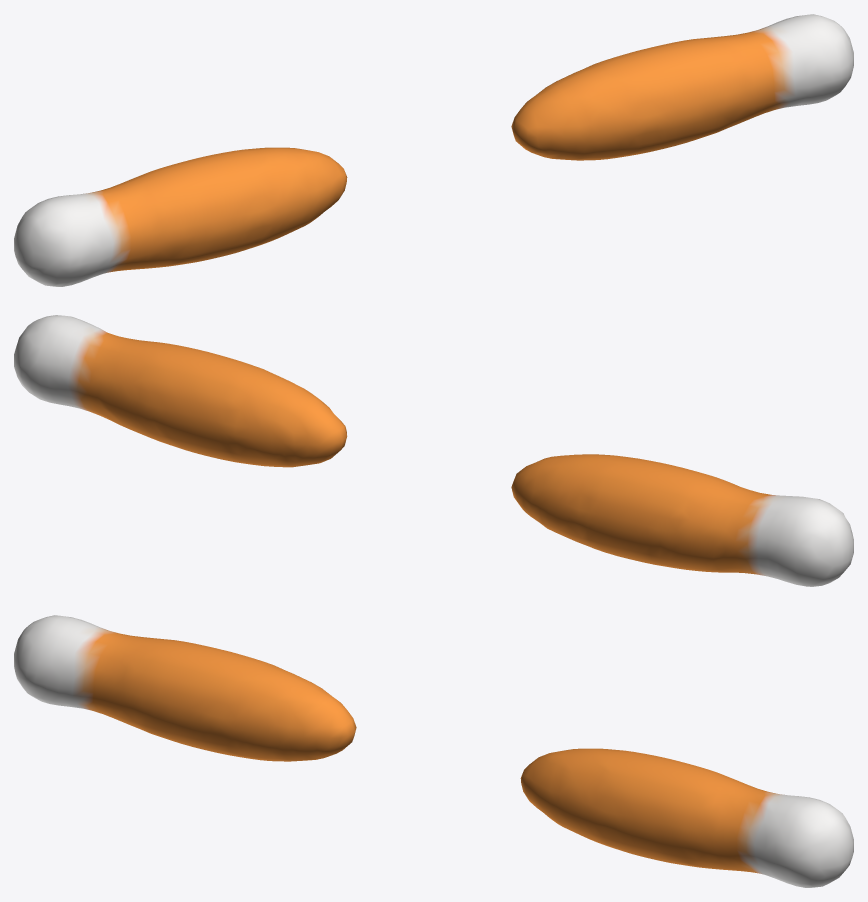
Rendered from Seperated Fox Arm.fbx.
The picture shows the model from 3 angles, top to bottom: view 1: azimuth 30°, elevation 25°; view 2: azimuth 150°, elevation 25°; view 3: azimuth 330°, elevation 25°; orthographic projection.
Visible parts, largest first — view 1: Left Fox Arm1, Left Fox Arm; view 2: Left Fox Arm, Left Fox Arm1; view 3: Left Fox Arm, Left Fox Arm1.
Boxes of the visible parts, x1,y1,x2,y2 form: Left Fox Arm1: [511, 14, 853, 160]; Left Fox Arm: [14, 147, 347, 286]; Left Fox Arm: [511, 454, 853, 586]; Left Fox Arm1: [14, 315, 347, 467]; Left Fox Arm: [14, 615, 356, 761]; Left Fox Arm1: [520, 748, 853, 887].
Size of the model in its own units: 742 by 78.6 by 78.24.
